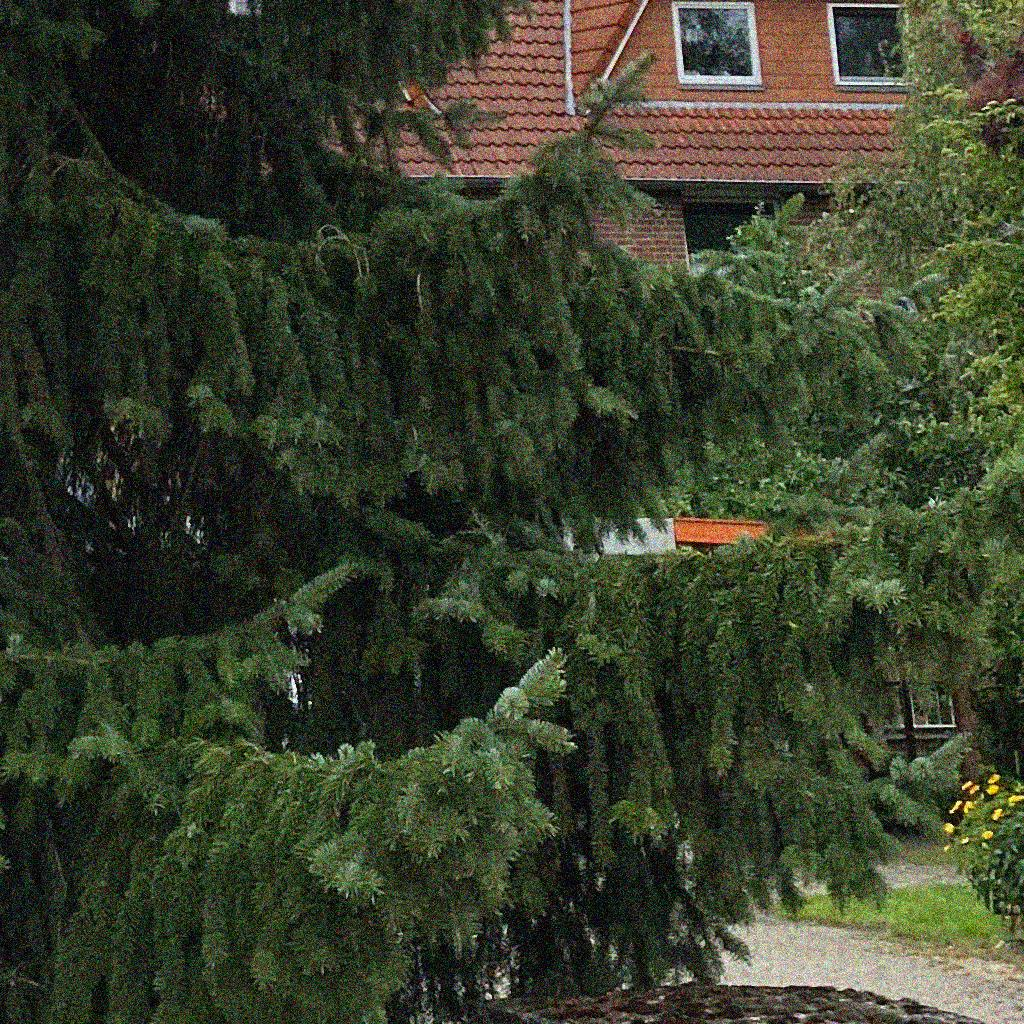tree: (1, 1, 1023, 1023), (802, 1, 1024, 487)
